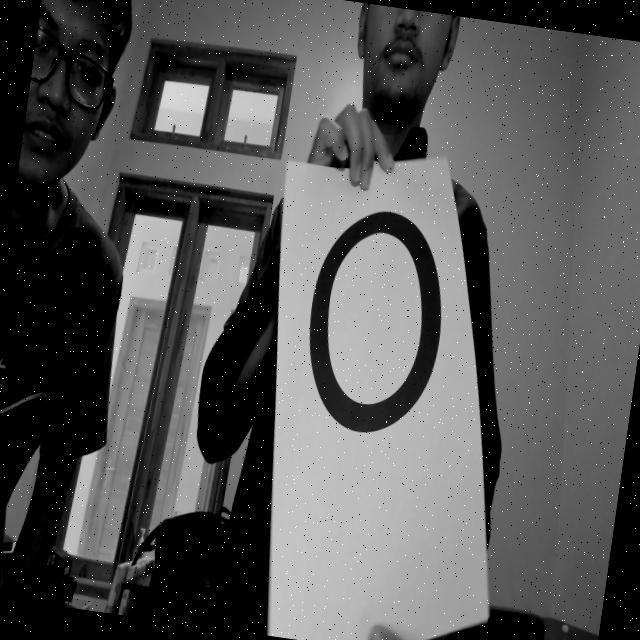o: (272, 187, 479, 497)
